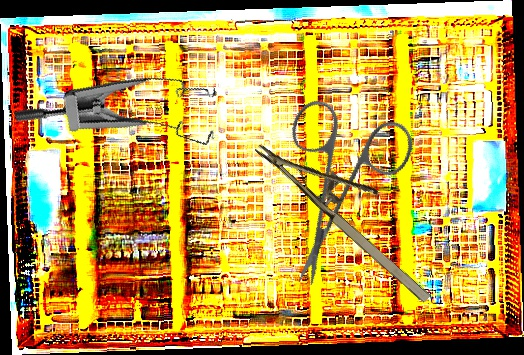Iris Scissors: (228, 68, 451, 290)
Needle Holder: (254, 109, 458, 309)
Speculum: (13, 43, 232, 203)
